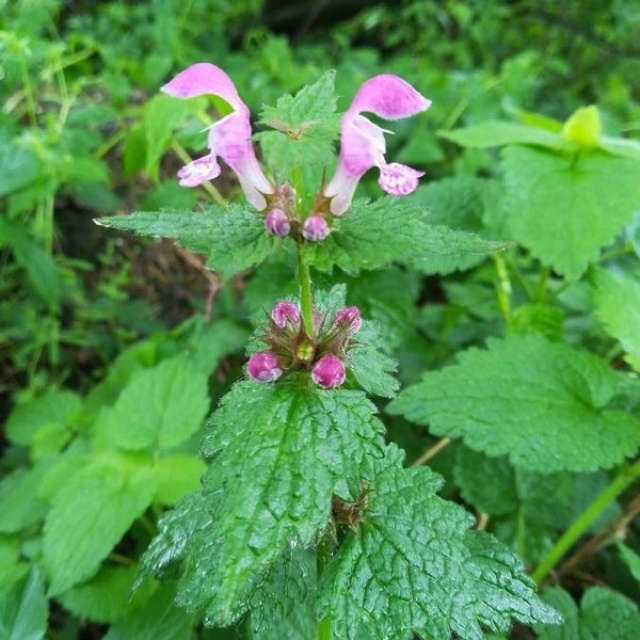obstacle: (101, 48, 483, 582)
